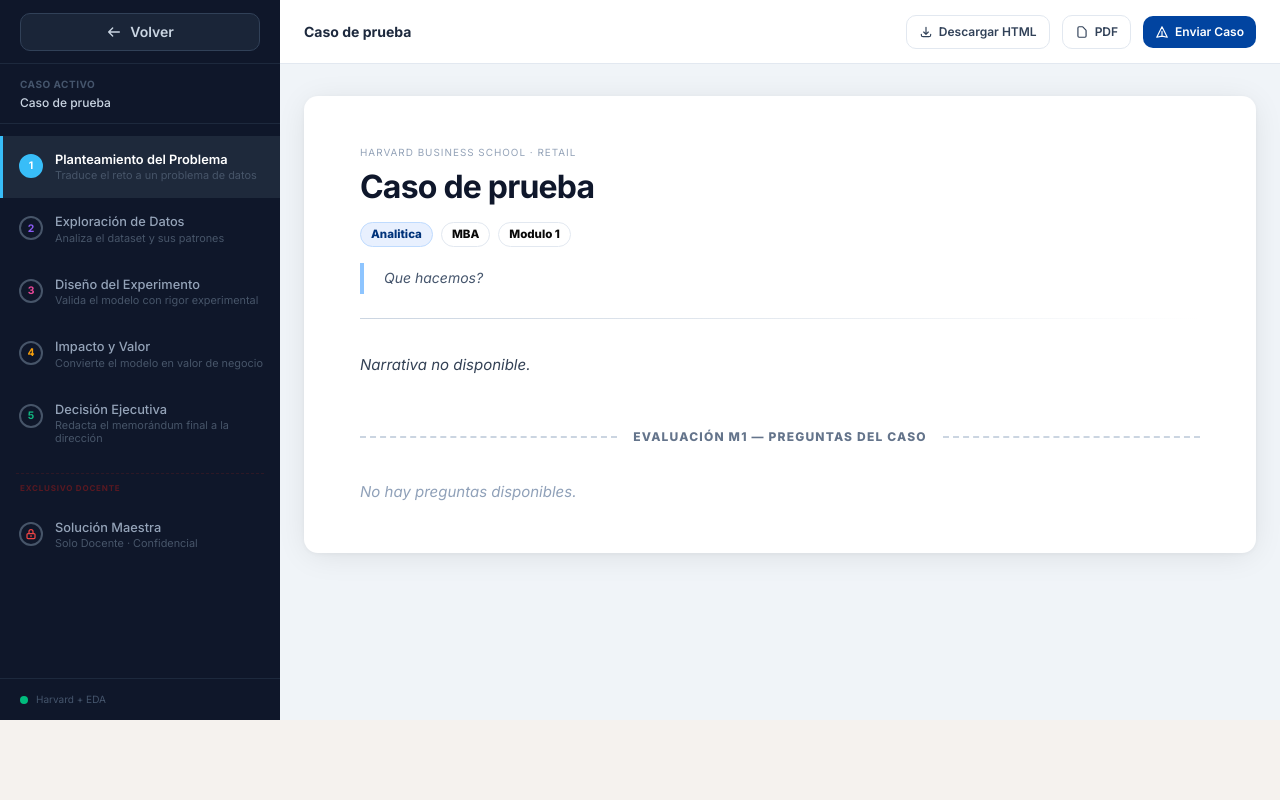
Test: CasePreview Enviar Caso button › [T2] idle: clicking button with caseId transitions to confirming state
The image size is (1280, 800).
Click the button "Enviar Caso" at (1200, 32), box [1143,16,1256,48]
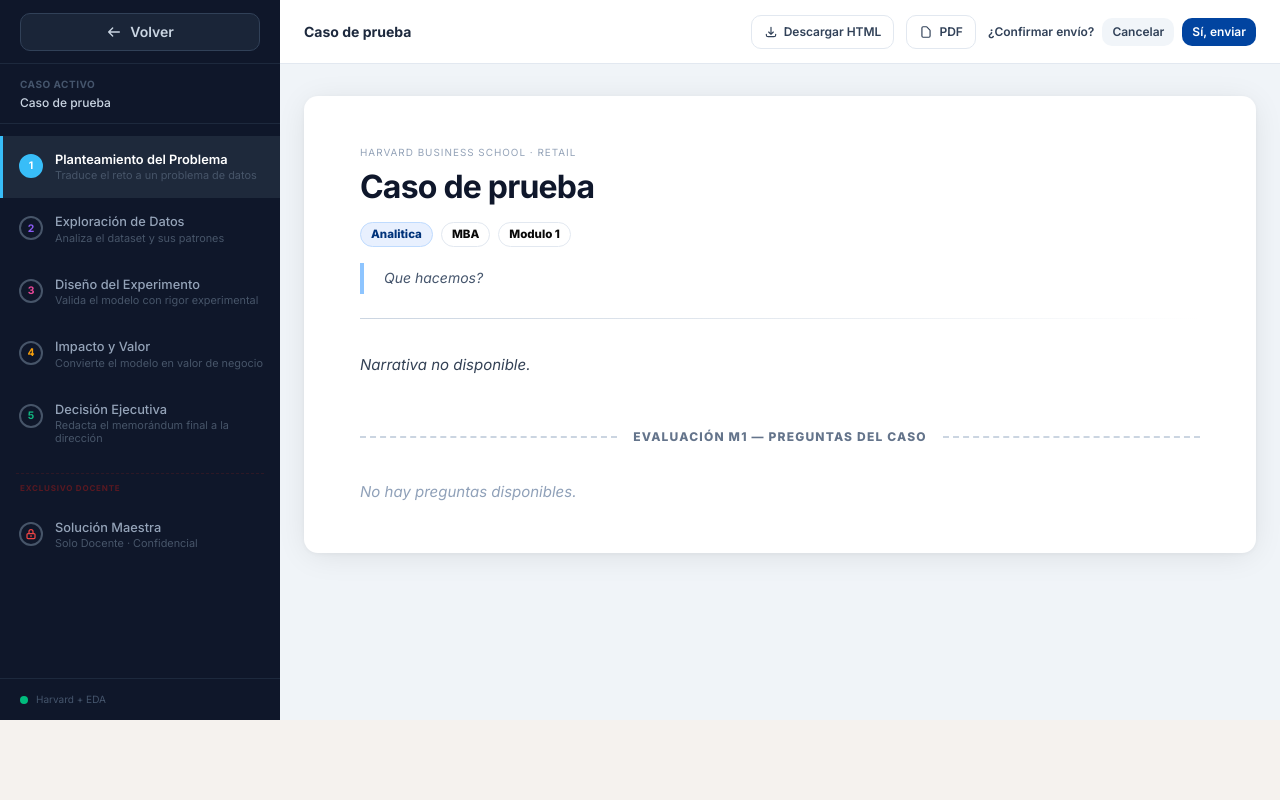
Expected: the text "¿Confirmar envío?" is shown, [988,24,1094,40]
Expected: the button "Cancelar" is shown, [1102,18,1174,46]
Expected: the button "Sí, enviar" is shown, [1182,18,1256,46]
